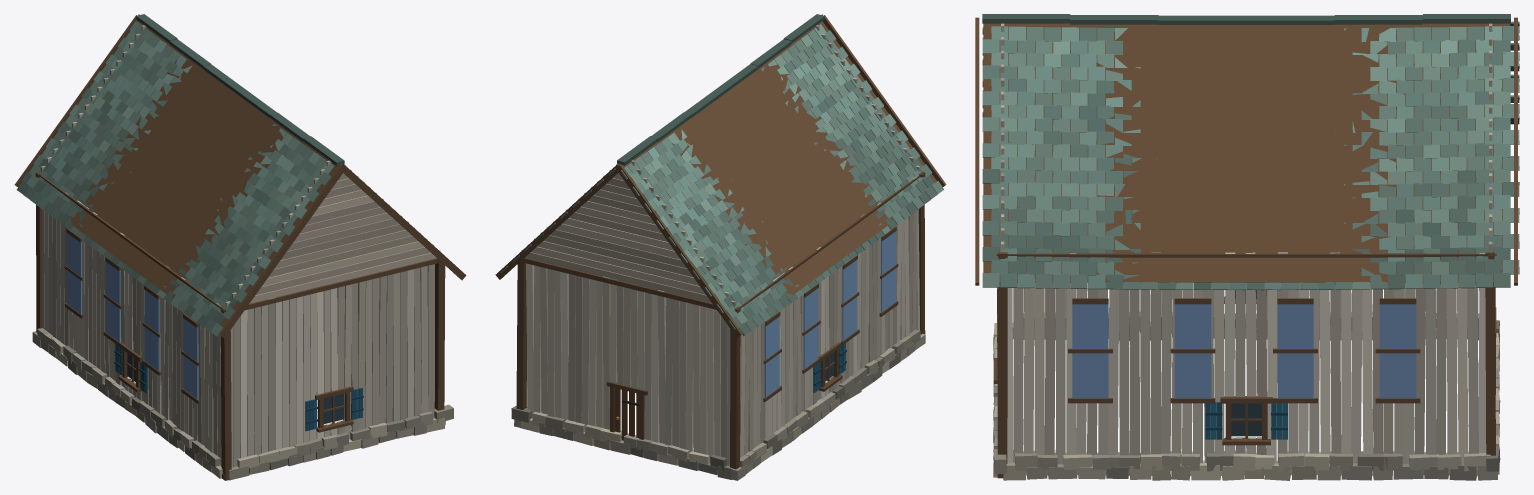
Rendered from capela_2.glb.
3 renders of one model, left to right at view 1: azimuth 30°, elevation 25°; view 2: azimuth 150°, elevation 25°; view 3: azimuth 270°, elevation 25°, orthographic. The views are drawn at different scales.
Visible parts, largest first — view 1: Madeira, Telhado, Pedra, Vidro; view 2: Madeira, Telhado, Pedra, Vidro; view 3: Madeira, Telhado, Pedra, Vidro.
Boxes of the visible parts, x1,y1,x2,y2 form: Madeira: (14,14,466,480); Telhado: (16,14,344,336); Pedra: (32,328,453,480); Vidro: (67,233,344,423); Madeira: (495,14,946,469); Telhado: (500,14,944,335); Pedra: (511,304,925,480); Vidro: (764,231,895,397); Madeira: (975,17,1517,478); Telhado: (982,14,1519,290); Pedra: (993,312,1500,480); Vidro: (1072,290,1416,436).
Bounding box in the file's own units: 9.29 × 10.64 × 13.38.
